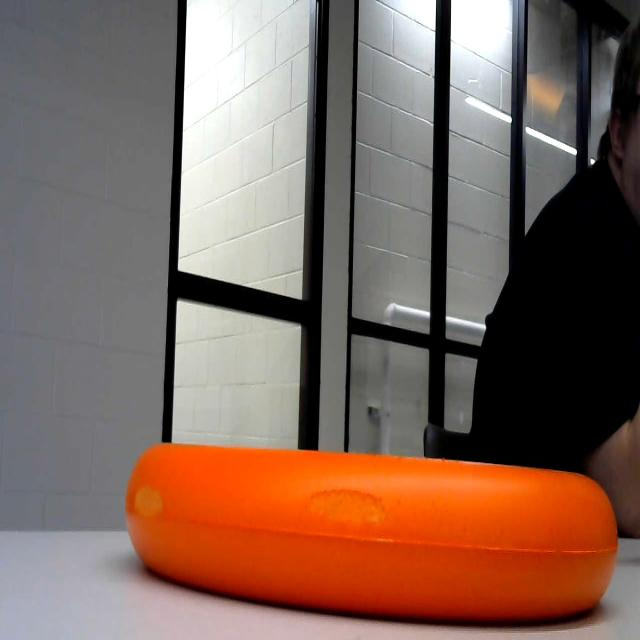note: (114, 398, 630, 640)
